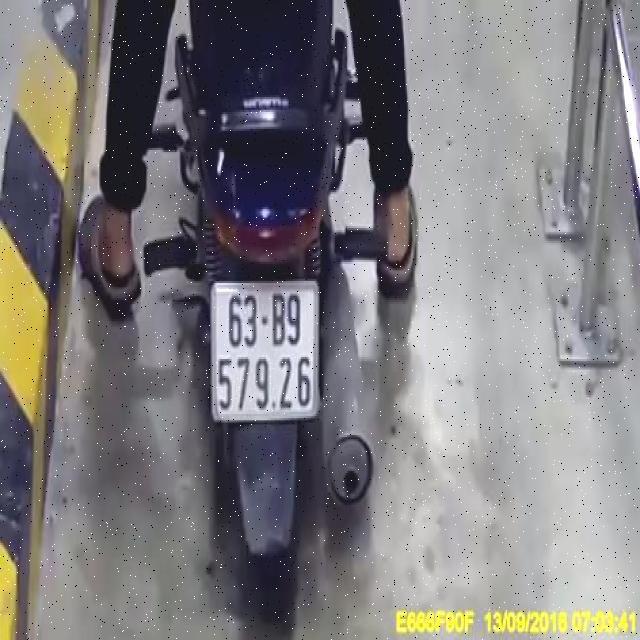2: (275, 355, 294, 413)
3: (242, 289, 258, 354)
5: (215, 353, 235, 416)
6: (224, 294, 246, 351), (294, 349, 313, 411)
7: (236, 353, 250, 415)
9: (250, 355, 271, 413), (285, 288, 303, 346)
B: (268, 288, 288, 350)
